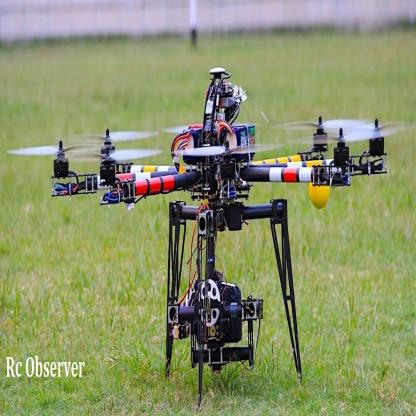drone: (4, 109, 416, 263)
